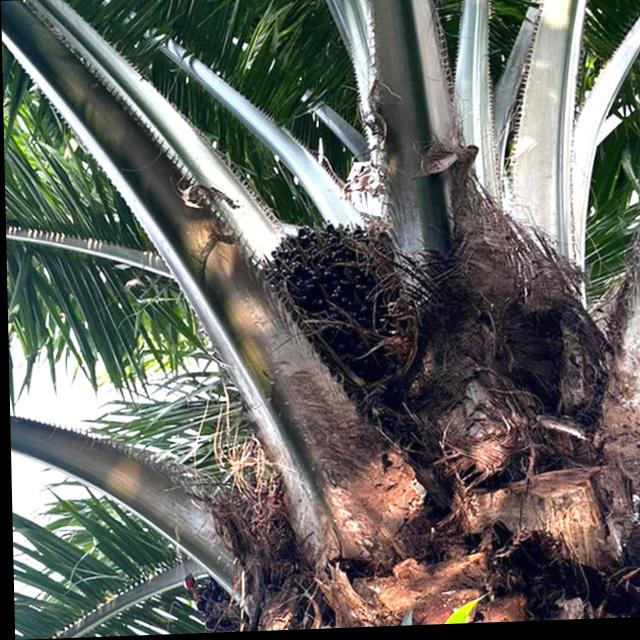ripe: (252, 207, 404, 369)
